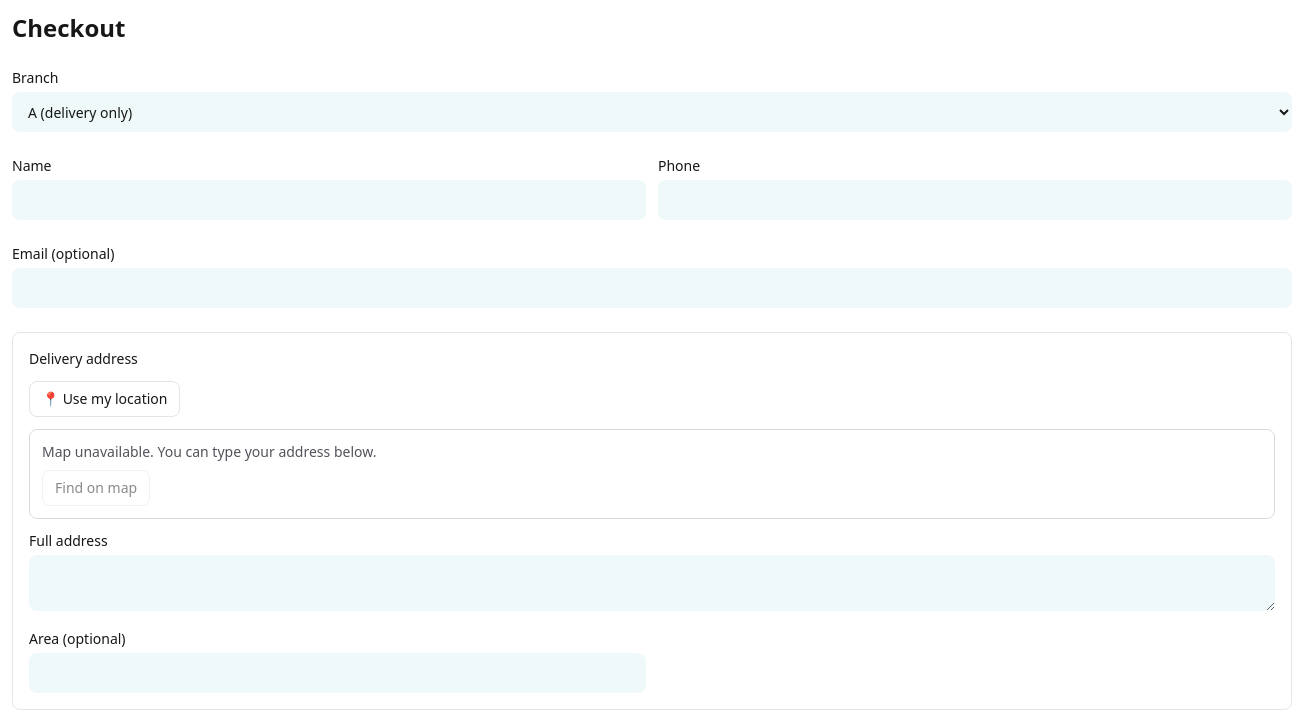
Test: fulfilment selector (single layout) › outlet A delivery only, B pickup only: switching outlet changes the order type with no invalid combination
This screenshot has width=1304, height=722.
expect the button "Pickup" is not shown: met
Step 1. Select "B (pickup only)" in the dropdown → (652, 112), box [12, 92, 1292, 132]
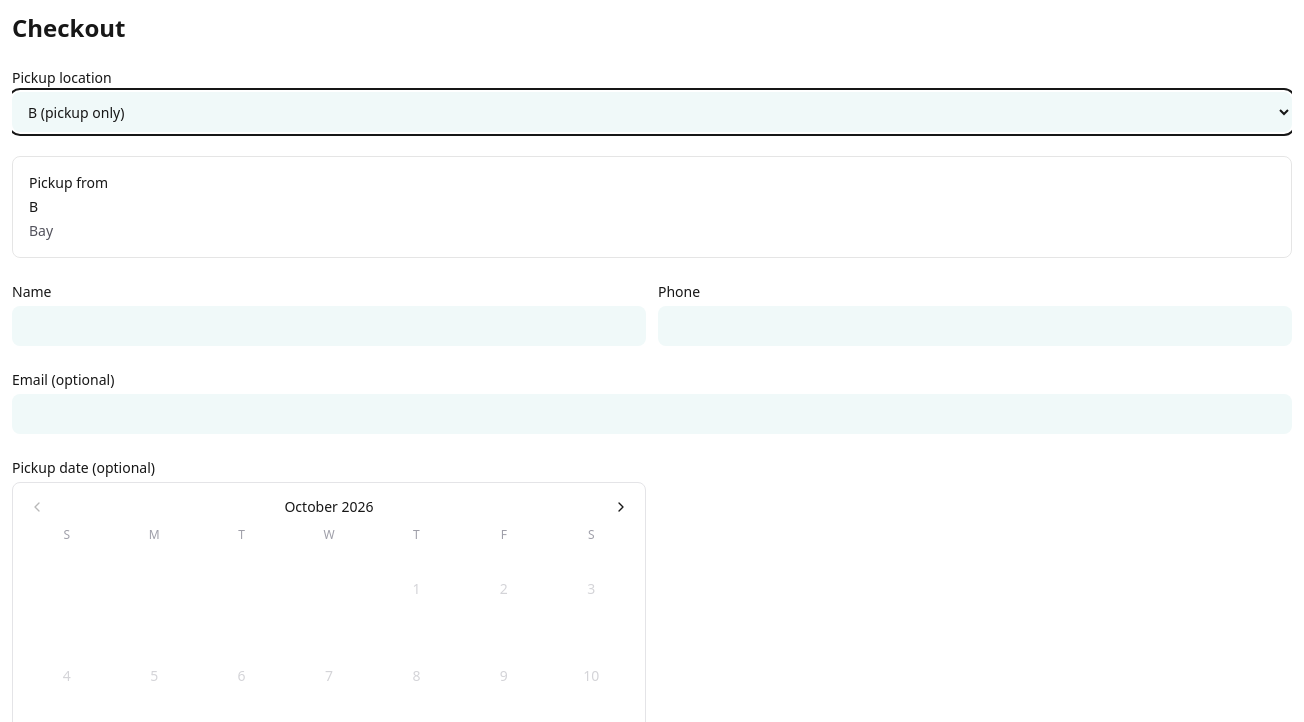
expect the element with test id "pickup-details" is shown: met, box [12, 156, 1292, 258]
expect the text "Delivery address" is gone: met
